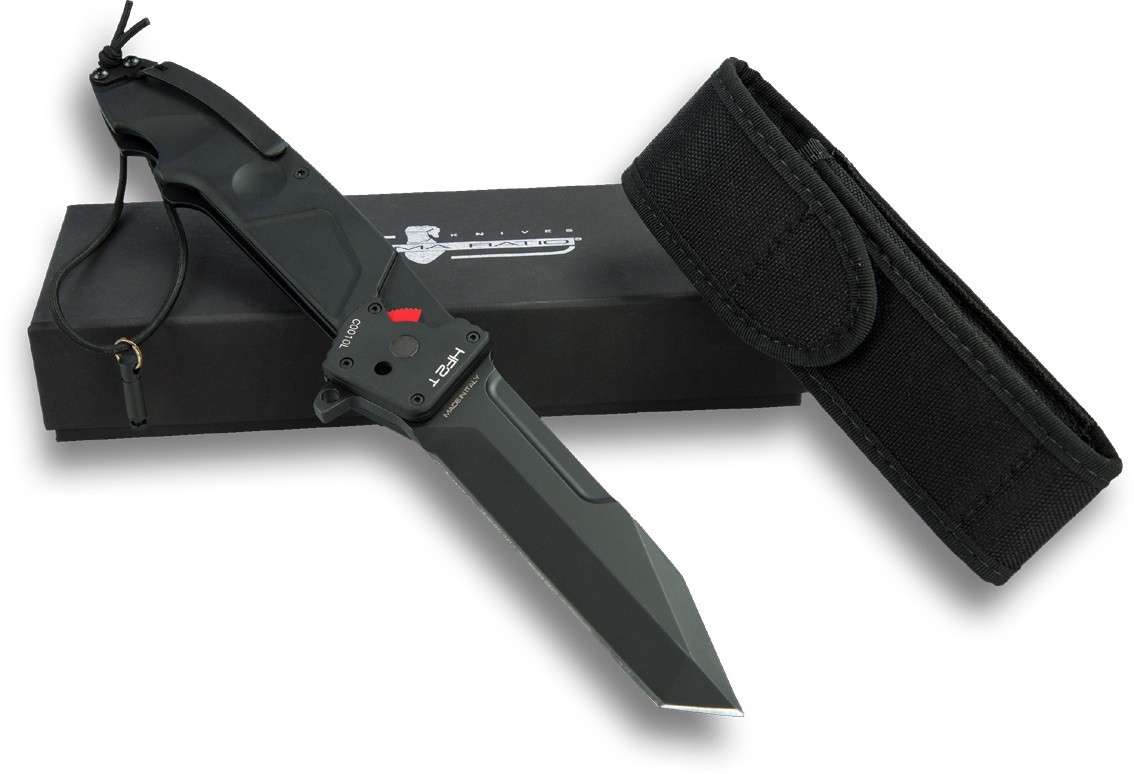knife: (395, 340, 752, 733)
